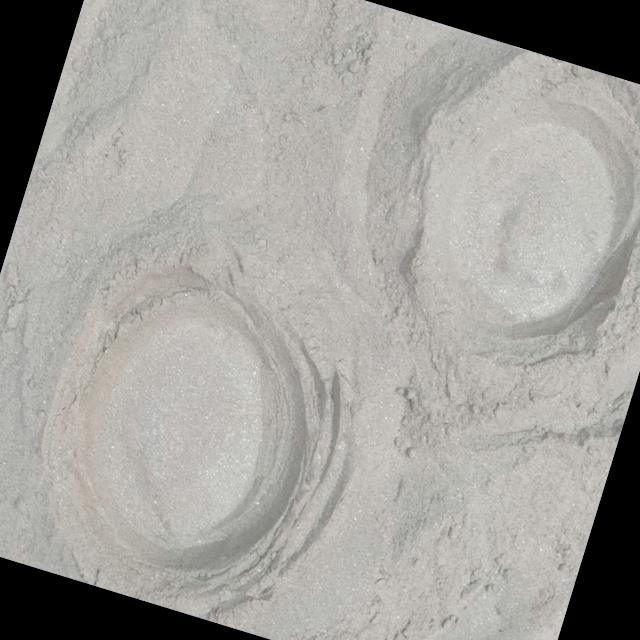C20: (50, 254, 321, 578), (416, 50, 640, 336)
